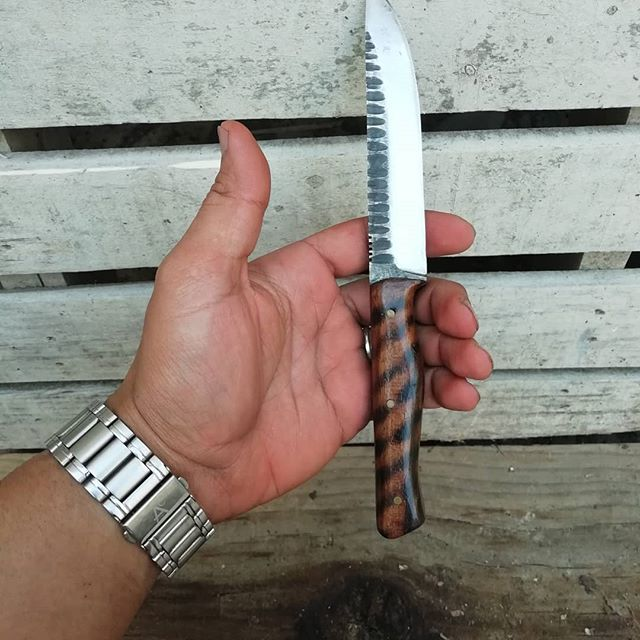knife: (364, 1, 429, 540)
